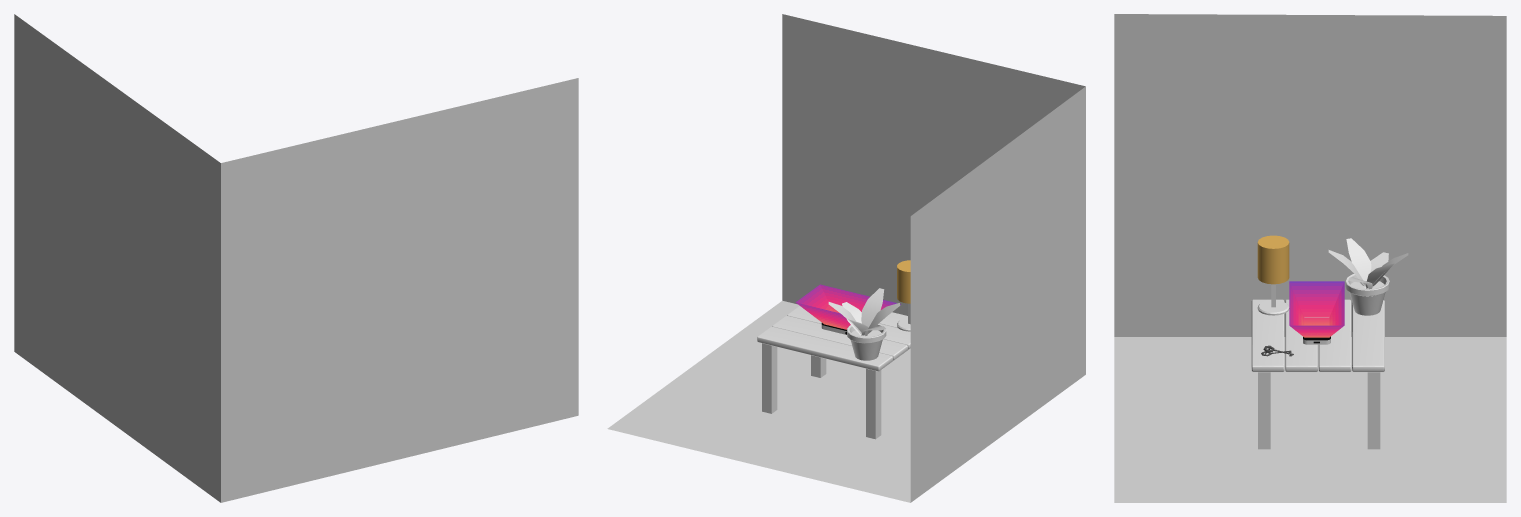
File: Phone.fbx
3 renders of one model, left to right at view 1: azimuth 30°, elevation 25°; view 2: azimuth 150°, elevation 25°; view 3: azimuth 270°, elevation 25°, orthographic. The views are drawn at different scales.
Visible parts, largest first — view 1: Plane.001; view 2: Plane.001, Plane, Cube.004, Glow, Plane.014, Cylinder, Cylinder.002; view 3: Plane.001, Plane, Glow, Cube.004, Plane.014, Cylinder.002, Cylinder, Cube.005.
Part boxes in pixels (x1,y1,x2,y2): Plane.001: (14,14,578,502); Plane.001: (607,14,1085,502); Plane: (757,306,910,371); Cube.004: (762,343,881,439); Glow: (795,284,900,329); Plane.014: (828,288,900,335); Cylinder: (847,323,886,360); Cylinder.002: (897,260,910,303); Plane.001: (1114,14,1506,502); Plane: (1251,299,1384,372); Glow: (1289,281,1344,337); Cube.004: (1258,372,1380,449); Plane.014: (1328,238,1408,288); Cylinder.002: (1257,235,1289,284); Cylinder: (1345,274,1389,315); Cube.005: (1257,284,1289,315).
Bounding box in the file's own units: 911 × 838 × 911.
